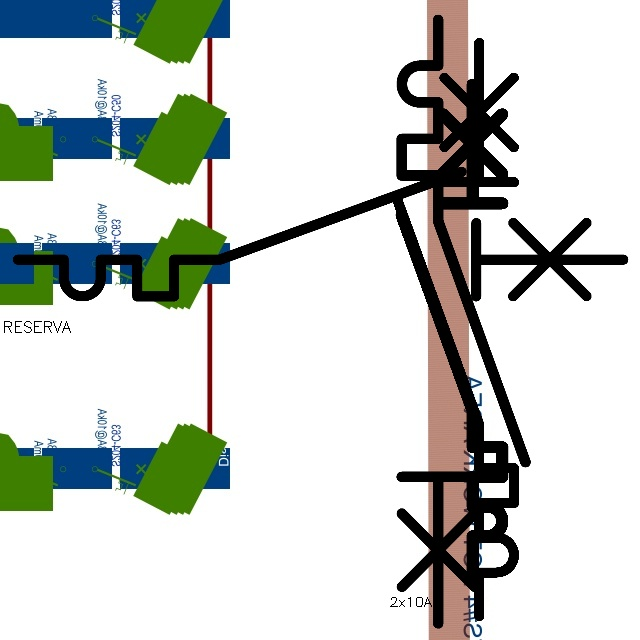interruptor_termomagnetico: (2, 156, 639, 312), (386, 4, 541, 639), (381, 28, 529, 631), (389, 72, 515, 586)
